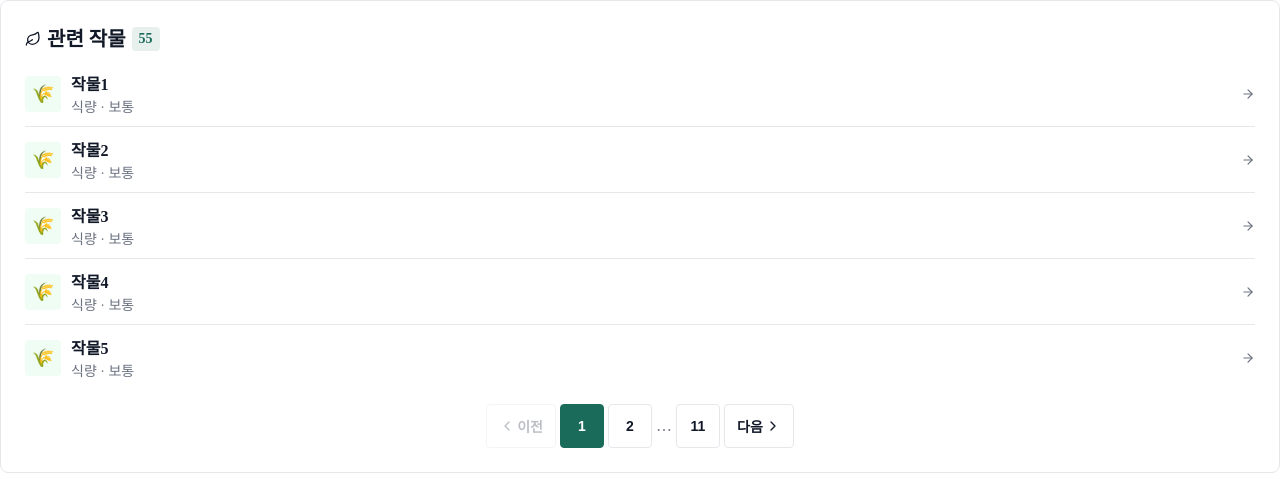
Test: RelatedCropsCard — 5개씩 (9/27) › 페이지를 넘기면 다음 5개로 바뀐다
Click the button with aria-label "다음 페이지". click: (759, 426)
box: [724,404,794,448]
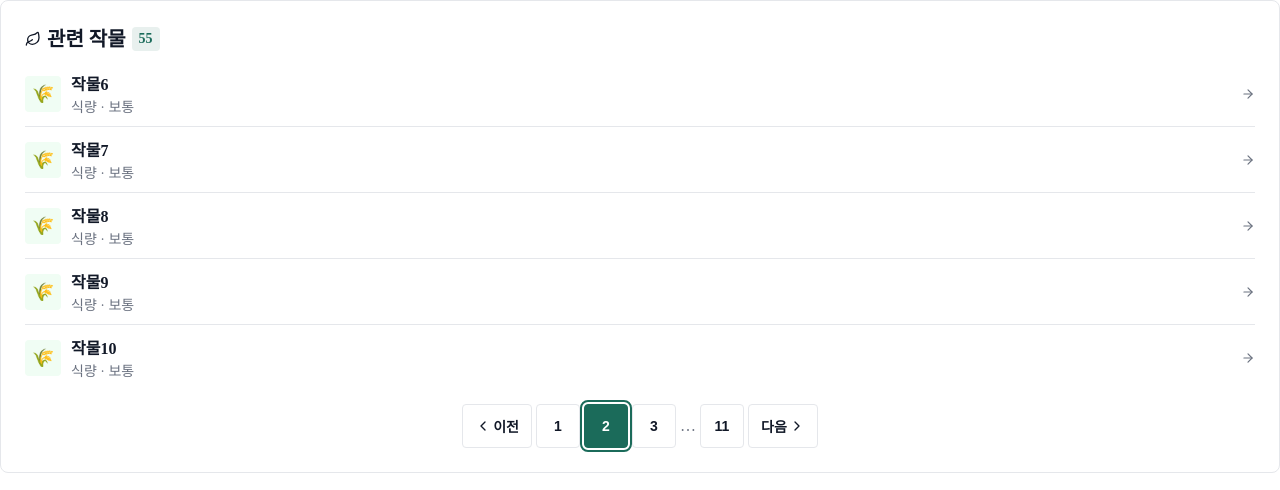
Check: the number of links is 5, box [25,61,1255,126]; [25,127,1255,192]; [25,193,1255,258]; [25,259,1255,324]; [25,325,1255,390]
Check: the link "🌾 작물6 식량 · 보통" is shown, box [25,61,1255,126]
